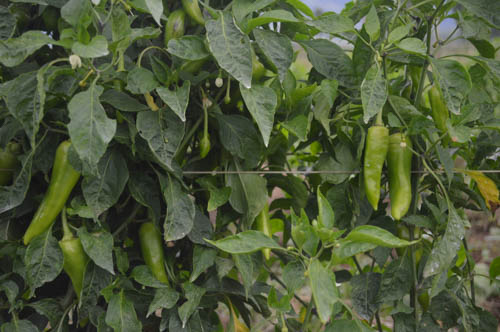ChiliPepper: (22, 142, 82, 249), (359, 127, 389, 217), (387, 134, 414, 225), (134, 221, 169, 288), (54, 242, 90, 293), (424, 84, 449, 144), (160, 9, 189, 49), (252, 205, 271, 263)
